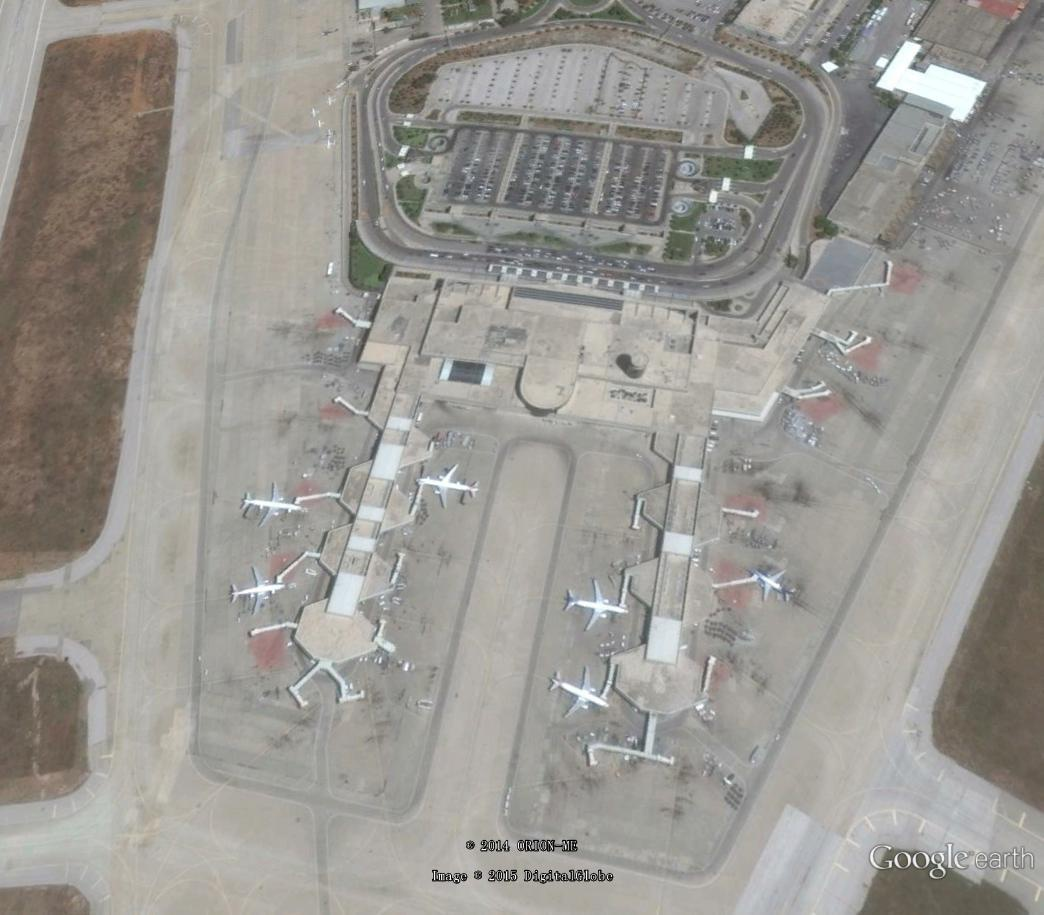aircraft: (559, 576, 634, 637), (547, 663, 619, 717), (225, 561, 291, 619), (417, 457, 484, 514), (240, 480, 313, 525), (751, 564, 804, 609)
